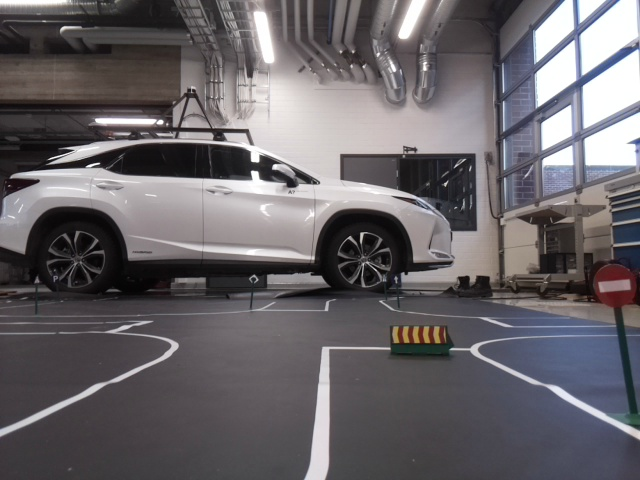ClosedRoadStand: (390, 324, 448, 344)
NoEntry: (591, 266, 638, 306)
